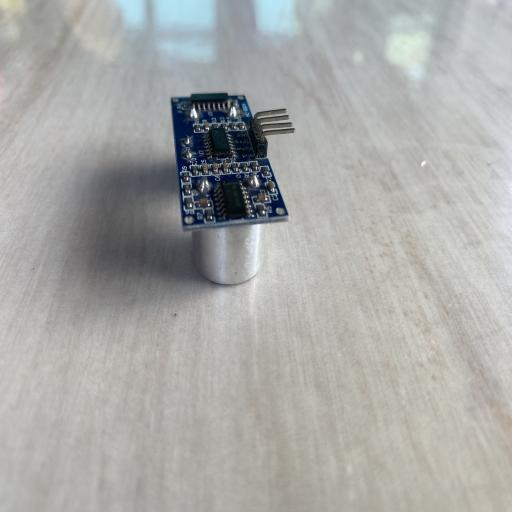Ultrasonic Sensor: (170, 91, 295, 285)
